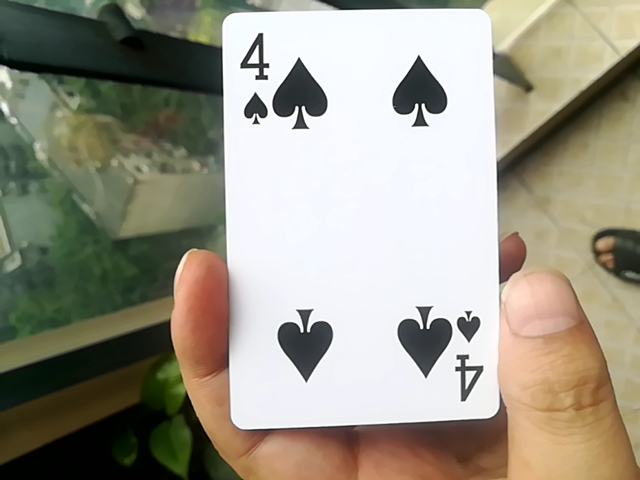ht 4: (230, 13, 517, 437)
